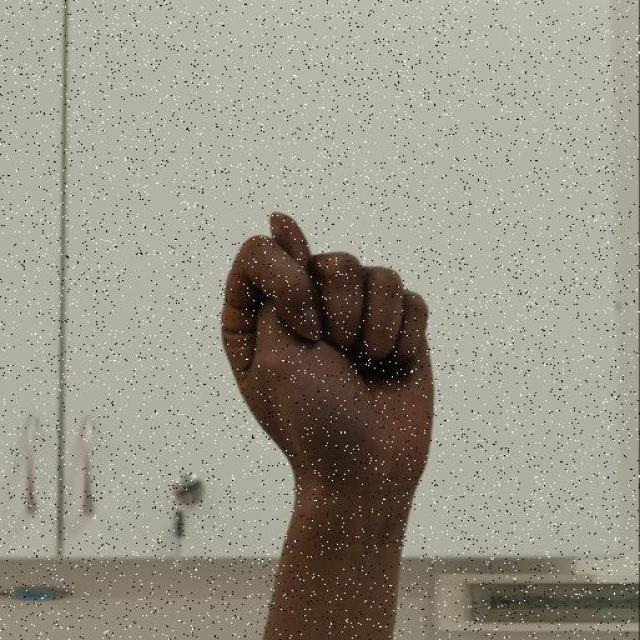T: (215, 208, 439, 490)
